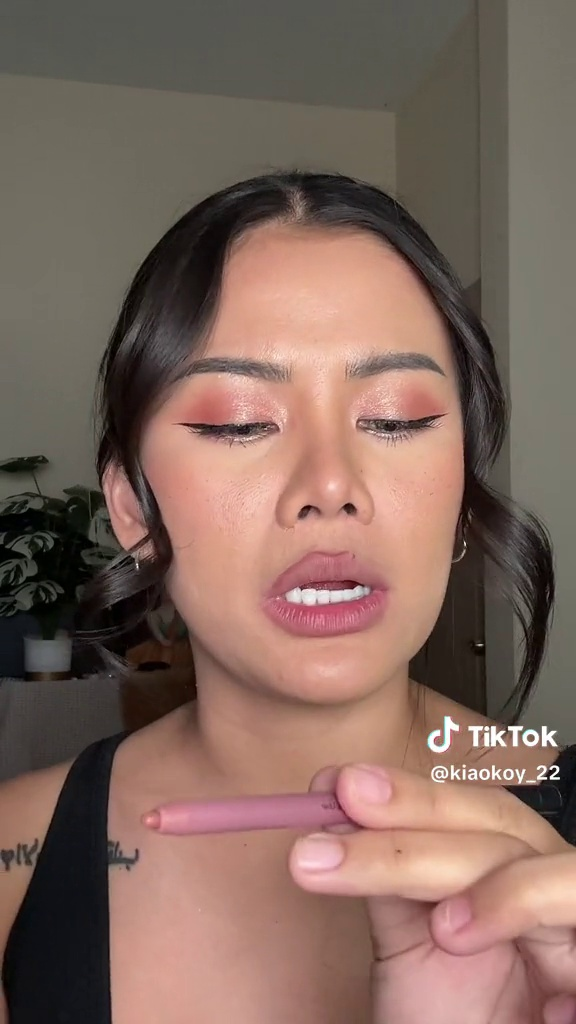train' :'yolo_data/train/images',: (132, 788, 442, 845)
